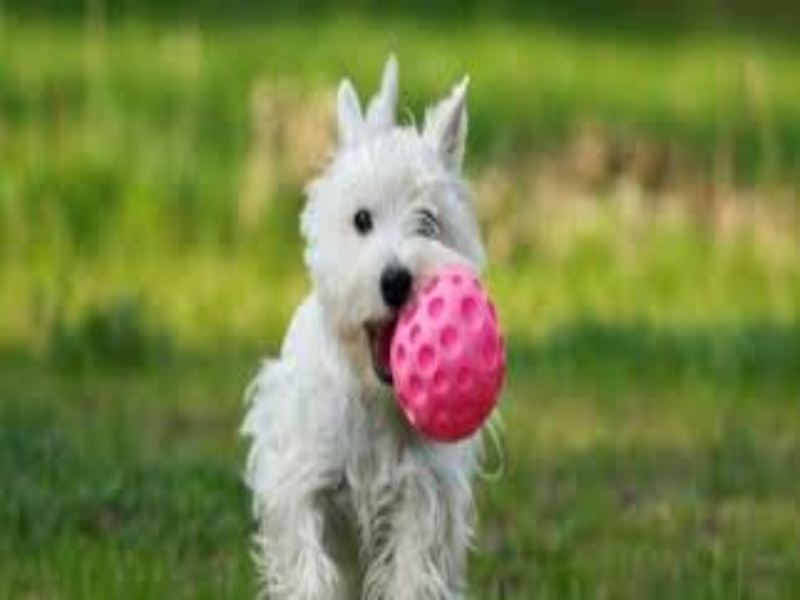dog: (240, 57, 513, 600)
